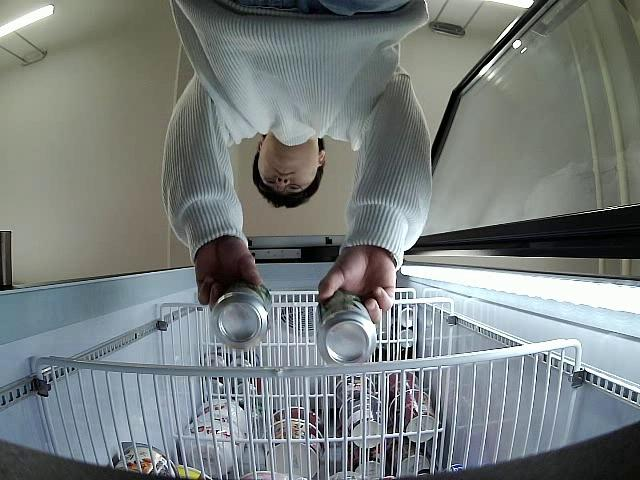00_hand: (318, 247, 397, 323), (193, 240, 263, 306)
12_chilsungCider: (208, 279, 273, 348), (317, 293, 377, 362)
